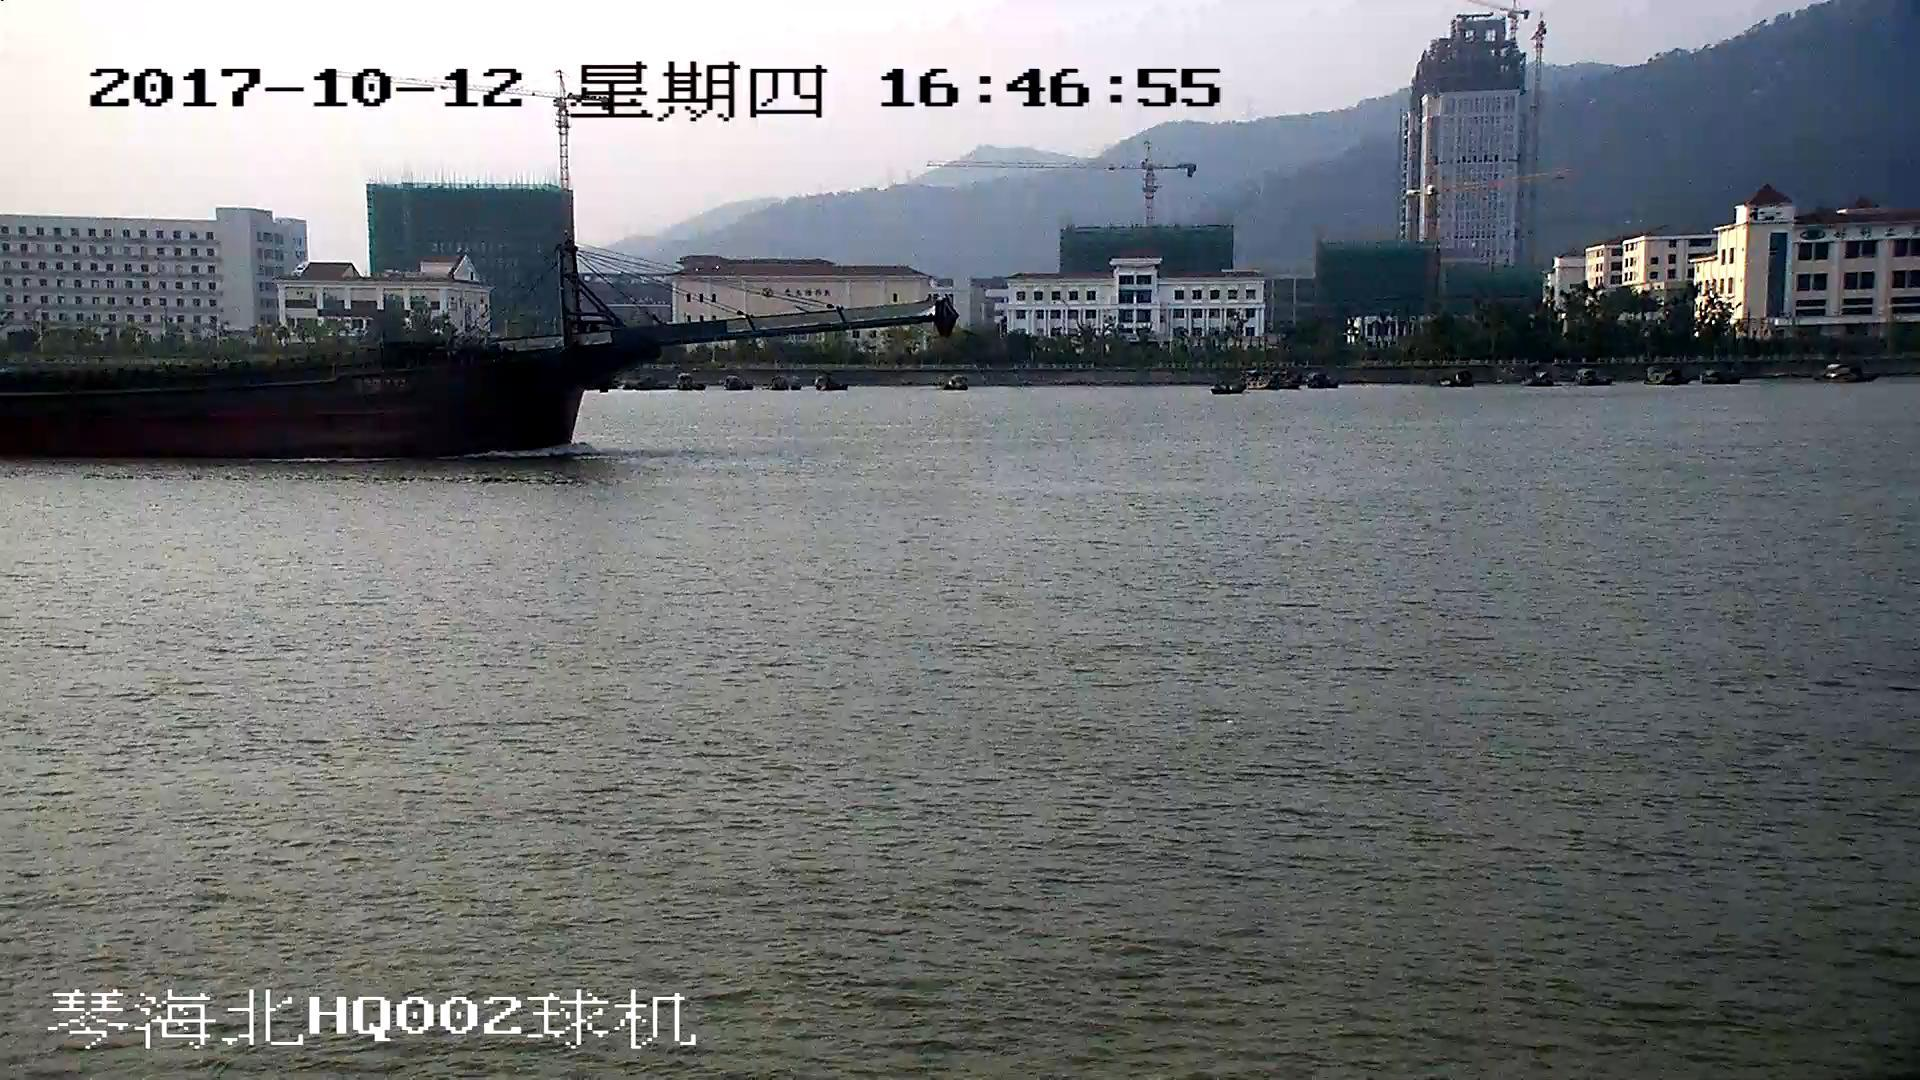Ship: (3, 243, 949, 460)
